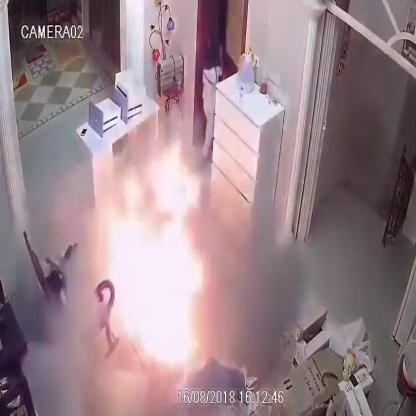fire: (105, 137, 203, 364)
